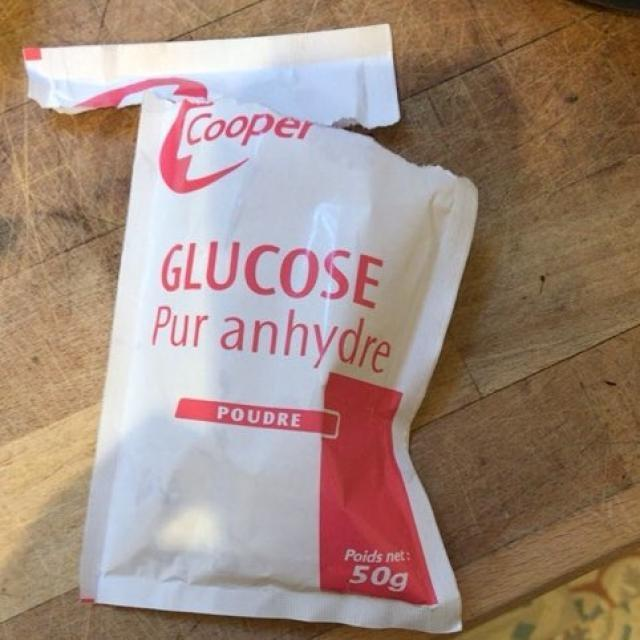drink: (83, 72, 457, 617)
